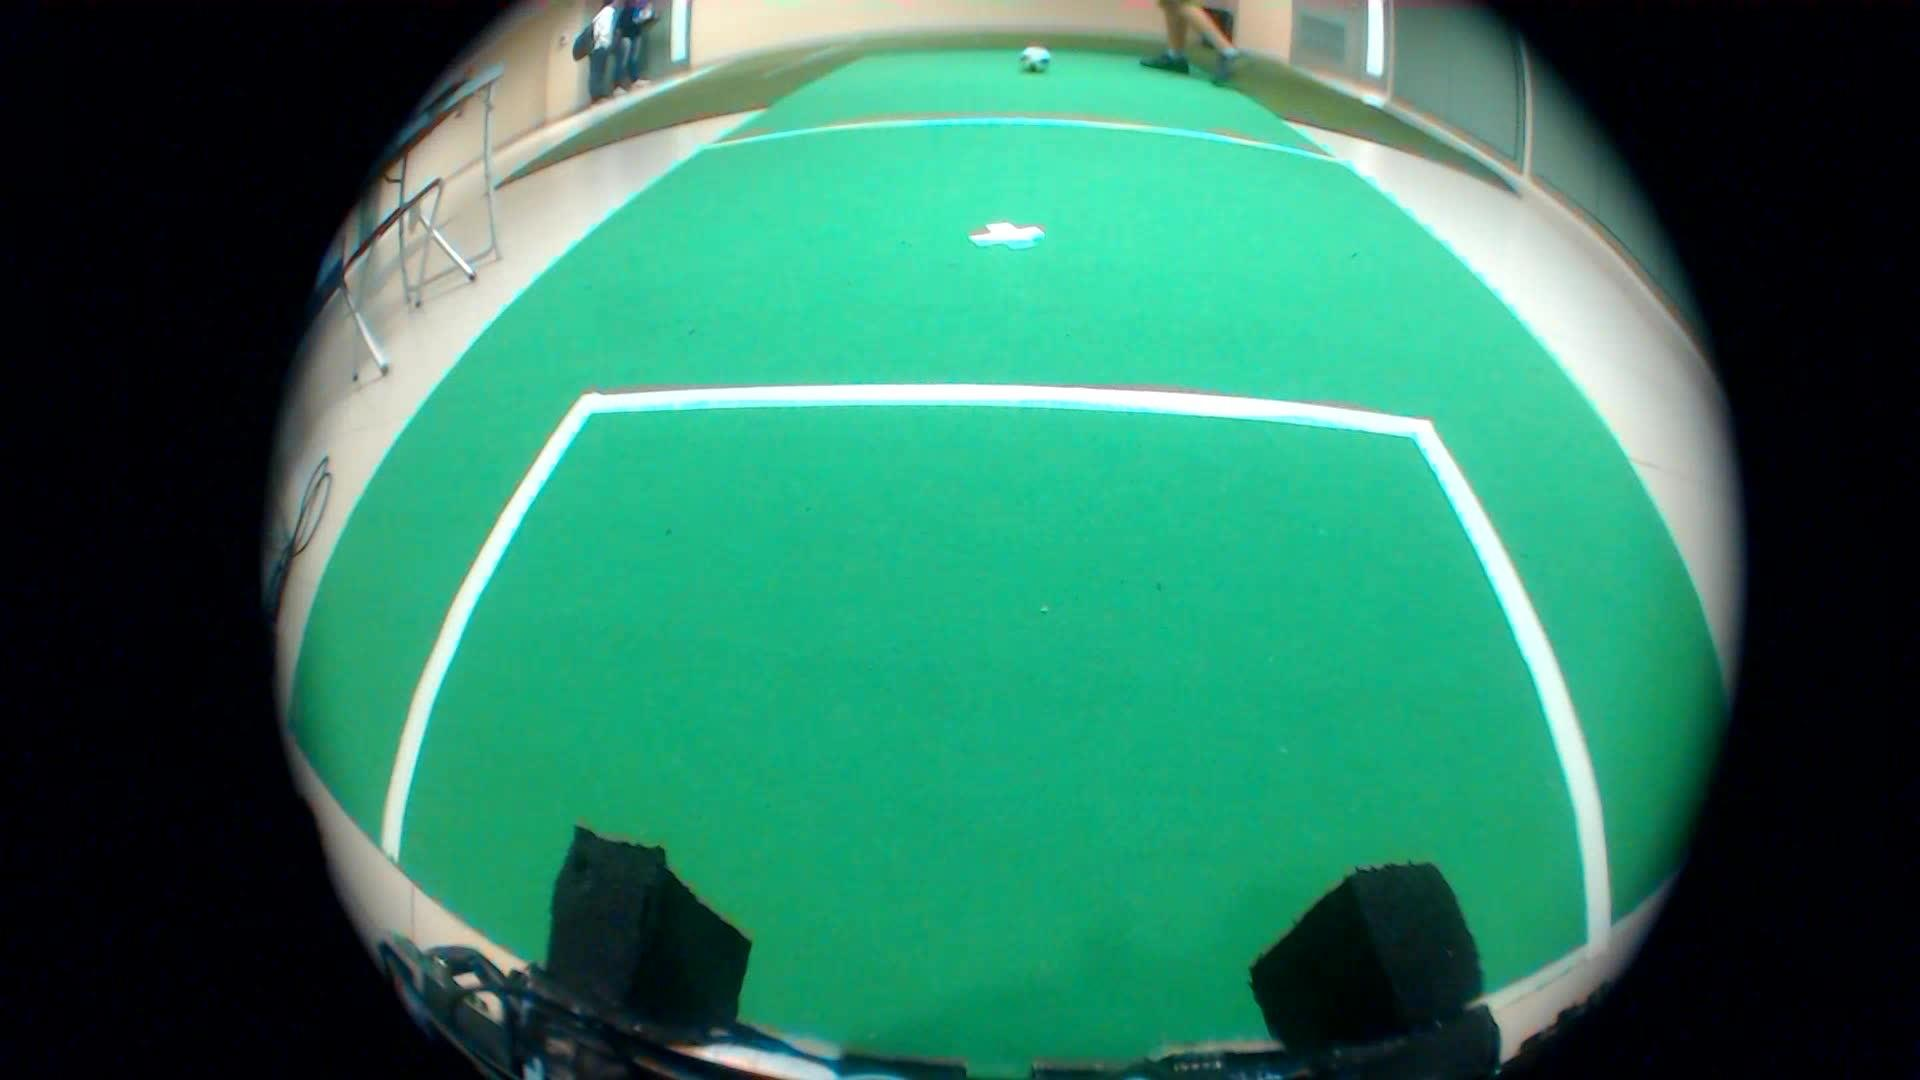ball: (1010, 36, 1051, 78)
